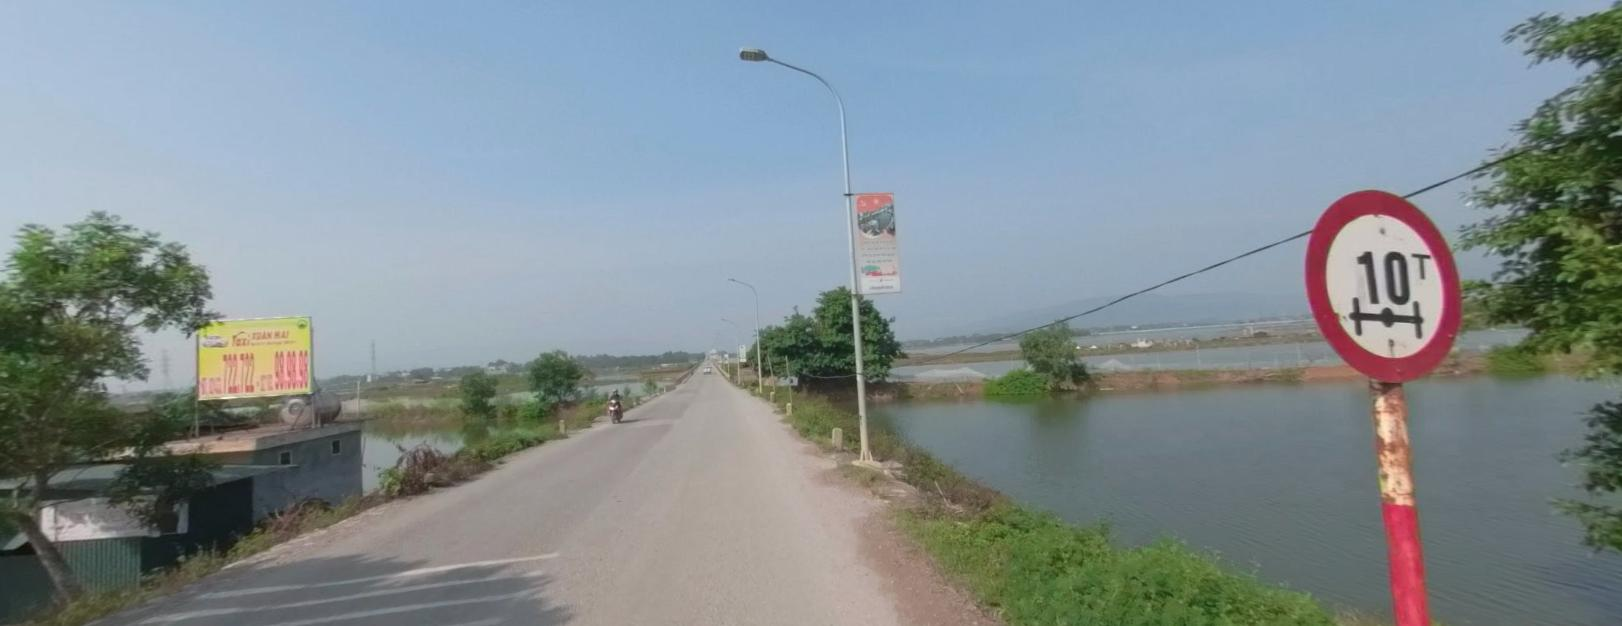Cam con lai: (1305, 187, 1462, 382)
